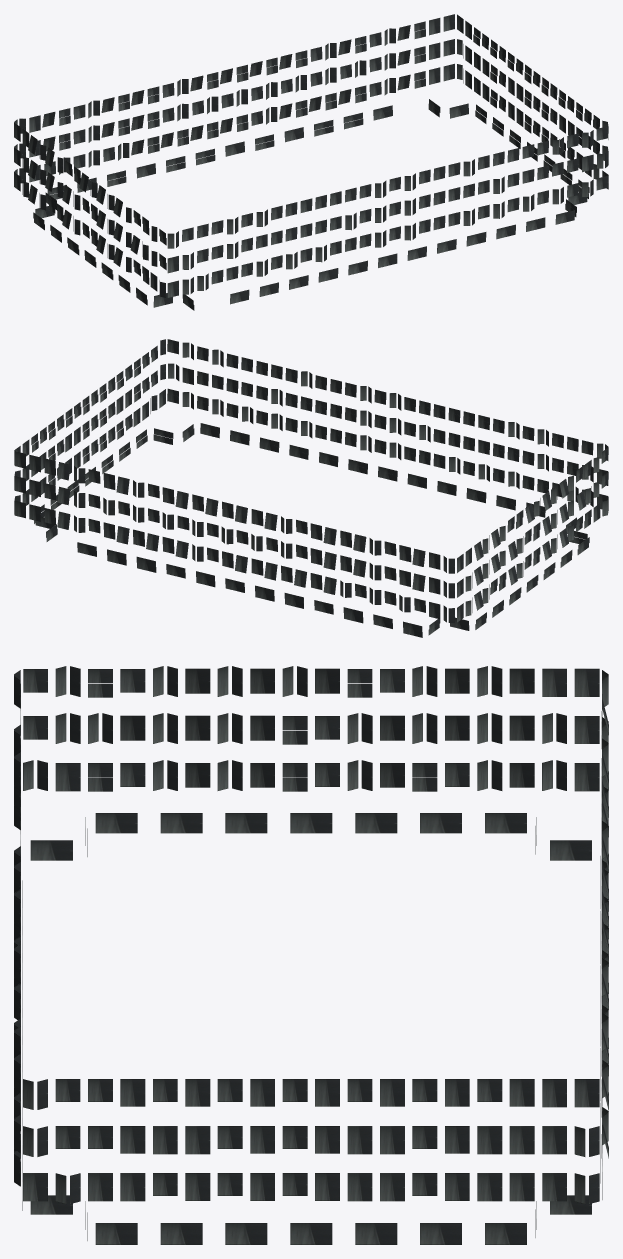
The model's file is TRANS_Building_4stores_BigResidential.obj.
The picture shows the model from 3 angles, top to bottom: view 1: azimuth 30°, elevation 25°; view 2: azimuth 150°, elevation 25°; view 3: azimuth 270°, elevation 25°; orthographic projection. The views are drawn at different scales.
Visible parts, largest first — view 1: TRANS_Building_4stores_BigResidential; view 2: TRANS_Building_4stores_BigResidential; view 3: TRANS_Building_4stores_BigResidential.
Part boxes in pixels (box(x1,y1,x2,y2)): TRANS_Building_4stores_BigResidential: box(14, 14, 608, 310); TRANS_Building_4stores_BigResidential: box(14, 339, 608, 637); TRANS_Building_4stores_BigResidential: box(14, 666, 608, 1244).
Size of the model in its own units: 19.91 by 3.72 by 12.04.
